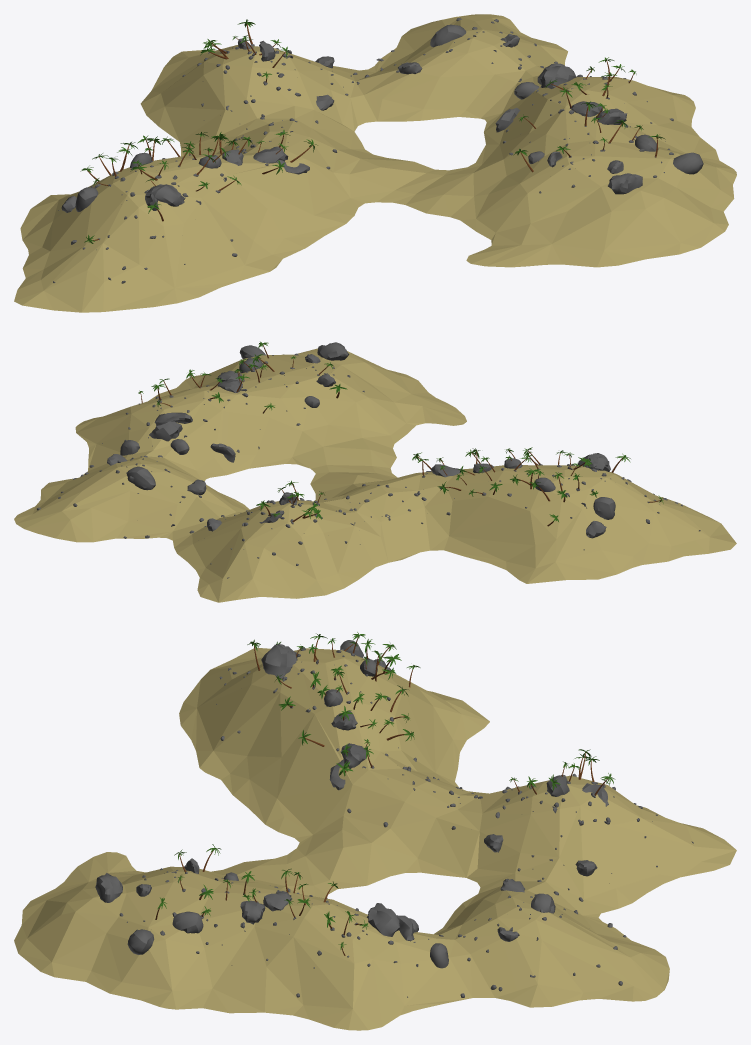
The model's file is Island-3.fbx.
3 views of the same model, one above another, from view 1: azimuth 30°, elevation 25°; view 2: azimuth 150°, elevation 25°; view 3: azimuth 270°, elevation 25° (orthographic). The views are drawn at different scales.
Parts seen in each view (by area): view 1: Island-3, Foolige-3; view 2: Island-3, Foolige-3; view 3: Island-3, Foolige-3.
Boxes of the visible parts, x1,y1,x2,y2 form: Island-3: (14,14,736,312); Foolige-3: (53,18,703,283); Island-3: (14,348,736,602); Foolige-3: (37,341,700,578); Island-3: (14,647,736,1030); Foolige-3: (95,632,693,997).
Size of the model in its own units: 23840 by 2820 by 19094.
